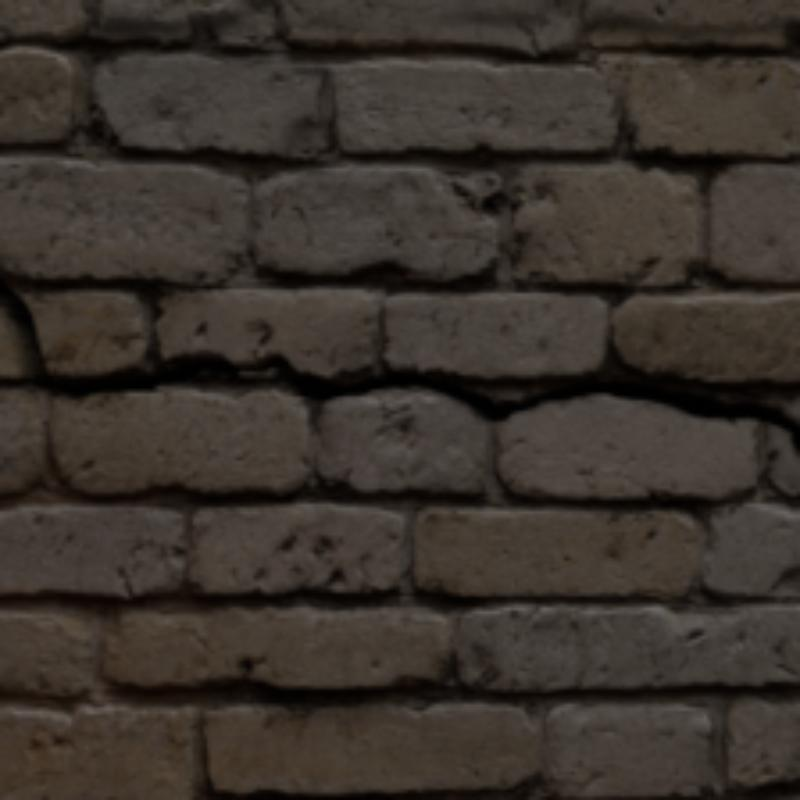pothole: (0, 275, 796, 454)
